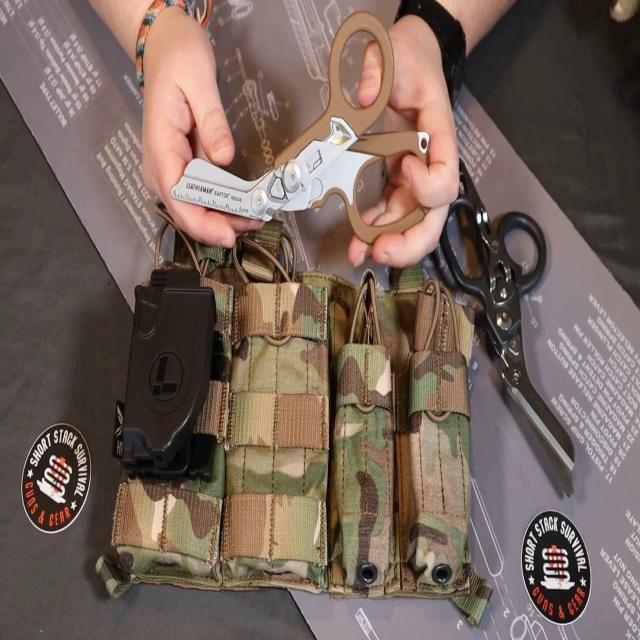scissor: (170, 9, 432, 249), (441, 151, 576, 499)
